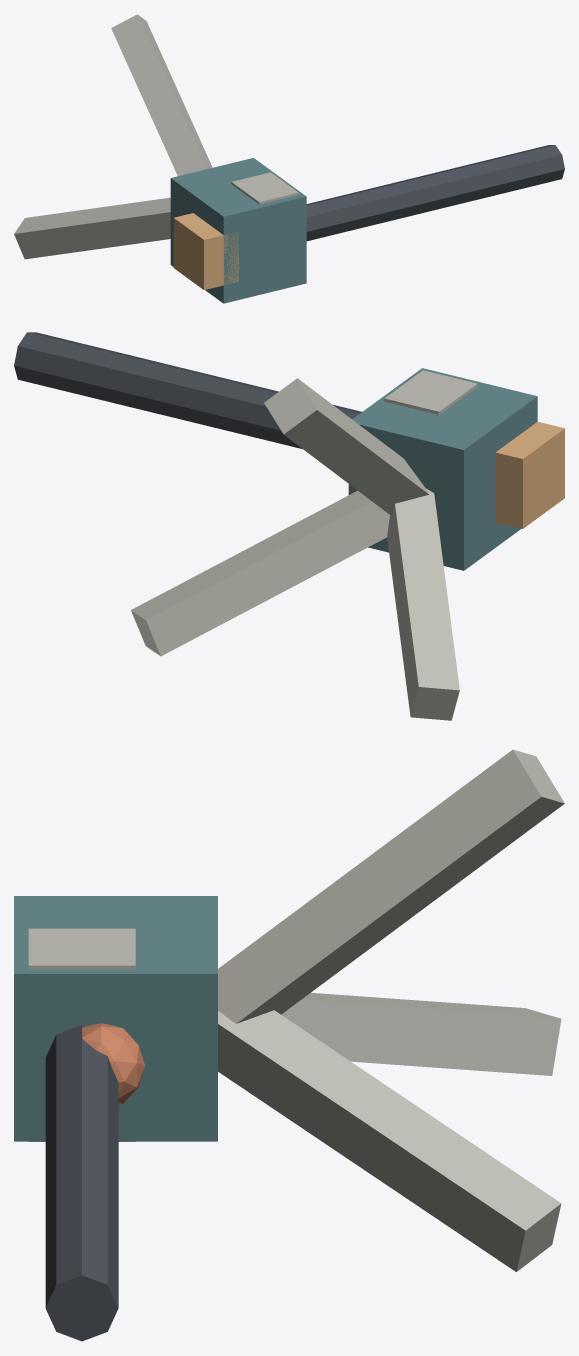
The model's file is sniper.glb.
3 renders of one model, top to bottom at view 1: azimuth 30°, elevation 25°; view 2: azimuth 150°, elevation 25°; view 3: azimuth 270°, elevation 25°, orthographic. The views are drawn at different scales.
Parts seen in each view (by area): view 1: core, barrel, tripod_leg_02, tripod_leg_01, weakpoint, armor_panel; view 2: core, tripod_leg_03, barrel, tripod_leg_02, tripod_leg_01, weakpoint, armor_panel; view 3: core, tripod_leg_03, tripod_leg_01, barrel, tripod_leg_02, armor_panel, optic.
Boxes of the visible parts, left/top/right/bottom form: core: left=170, top=158, right=306, bottom=303; barrel: left=306, top=145, right=564, bottom=241; tripod_leg_02: left=14, top=197, right=170, bottom=259; tripod_leg_01: left=111, top=14, right=212, bottom=175; weakpoint: left=173, top=213, right=238, bottom=289; armor_panel: left=231, top=172, right=298, bottom=204; core: left=348, top=368, right=537, bottom=570; tripod_leg_03: left=131, top=490, right=389, bottom=656; barrel: left=14, top=332, right=361, bottom=448; tripod_leg_02: left=387, top=488, right=459, bottom=720; tripod_leg_01: left=264, top=378, right=428, bottom=515; weakpoint: left=495, top=421, right=564, bottom=528; armor_panel: left=384, top=370, right=477, bottom=414; core: left=14, top=896, right=217, bottom=1141; tripod_leg_03: left=218, top=1010, right=561, bottom=1271; tripod_leg_01: left=218, top=749, right=564, bottom=1023; barrel: left=45, top=1025, right=118, bottom=1341; tripod_leg_02: left=281, top=993, right=561, bottom=1075; armor_panel: left=28, top=928, right=135, bottom=1141; optic: left=82, top=1023, right=144, bottom=1104.
Size of the model in its own units: 1.95 by 0.9559 by 1.13.
